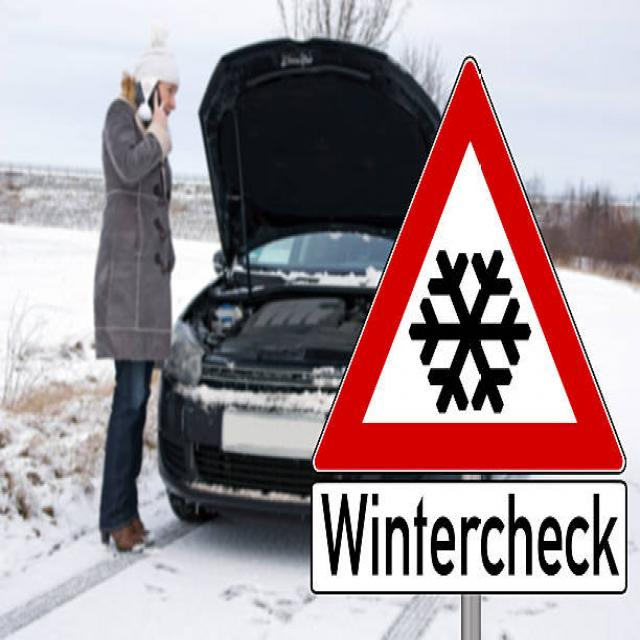snow_warning: (315, 49, 632, 491)
